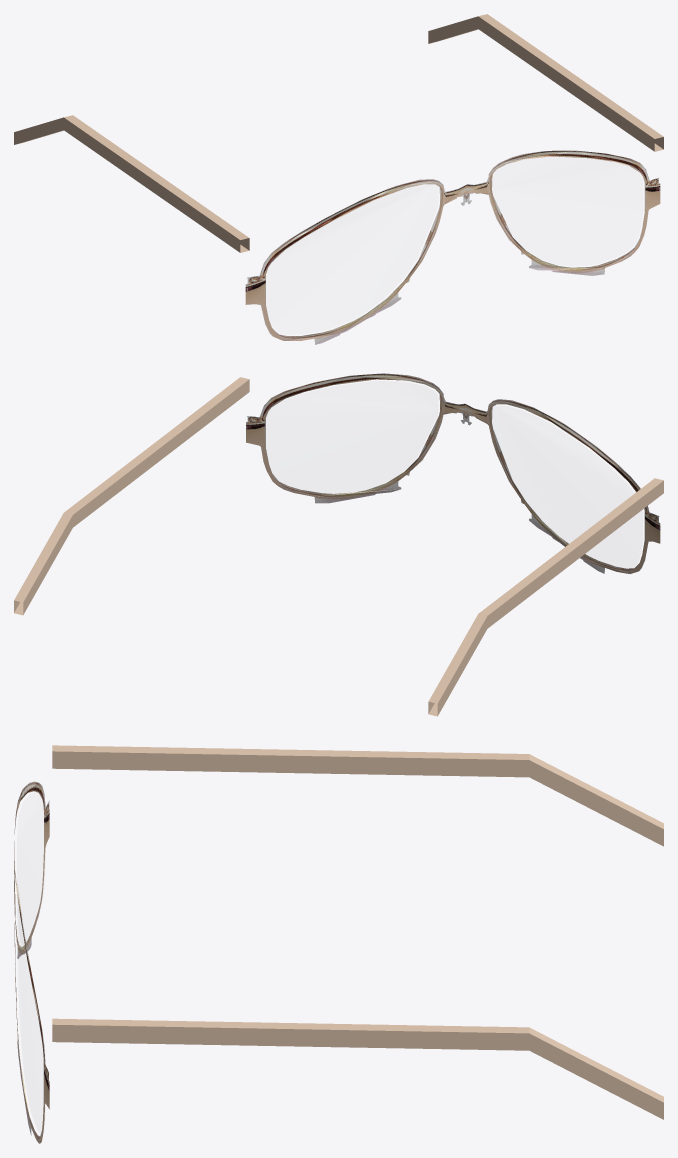
Rendered from gothamstyle-stainless-2_gold.glb.
3 renders of one model, top to bottom at view 1: azimuth 30°, elevation 25°; view 2: azimuth 150°, elevation 25°; view 3: azimuth 270°, elevation 25°, orthographic. The views are drawn at different scales.
Visible parts, largest first — view 1: frame_front, temple_viewer_right, temple_viewer_left; view 2: frame_front, temple_viewer_right, temple_viewer_left; view 3: temple_viewer_right, temple_viewer_left, frame_front.
Part boxes in pixels (box(x1,y1,x2,y2)): frame_front: box(245, 150, 660, 344); temple_viewer_right: box(428, 14, 663, 151); temple_viewer_left: box(14, 115, 249, 252); frame_front: box(246, 373, 660, 573); temple_viewer_right: box(14, 377, 249, 615); temple_viewer_left: box(428, 478, 663, 716); temple_viewer_right: box(52, 1018, 663, 1119); temple_viewer_left: box(52, 745, 663, 846); frame_front: box(14, 781, 49, 1143).
Bounding box in the file's own units: 0.1383 × 0.0454 × 0.136.
Materials: 3 (2 with a texture image).
